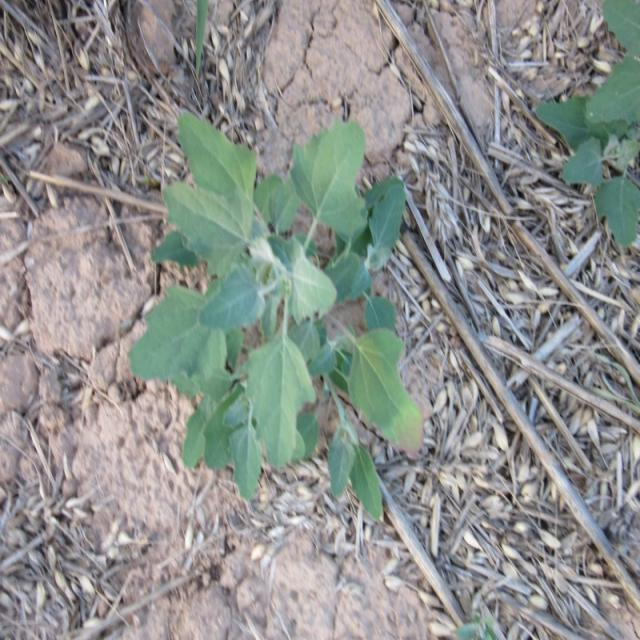ca: (128, 104, 421, 519)
